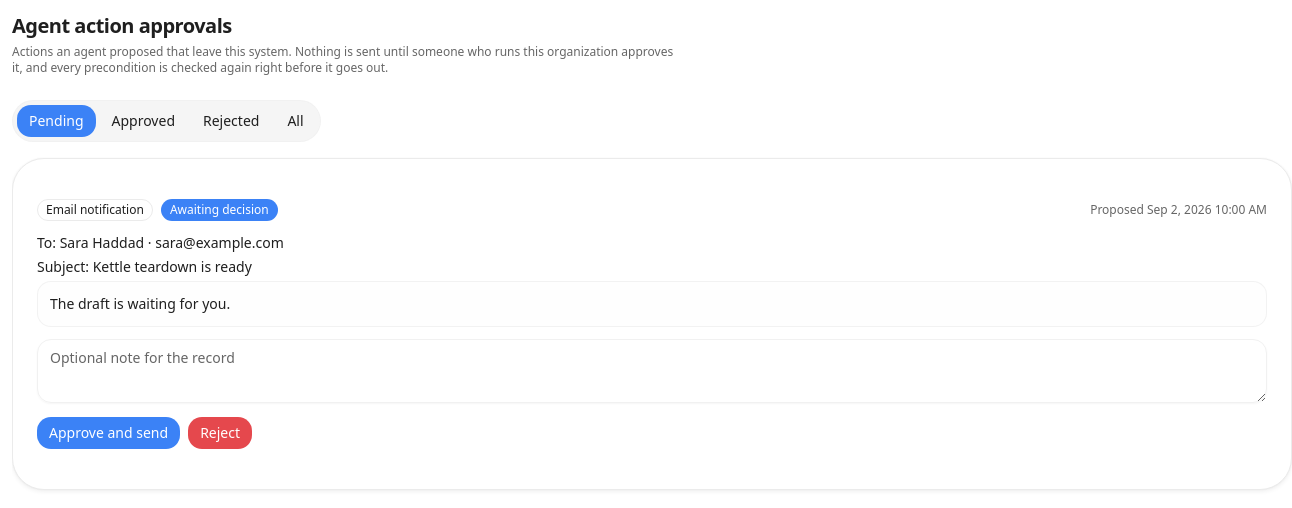
it: organization approvals block › rejects without a note when none was typed
Check: the text "Kettle teardown is ready" is shown, box x1=93 y1=257 x2=252 y2=276
Click the button "Reject": {"x": 220, "y": 433} x1=188 y1=417 x2=252 y2=449
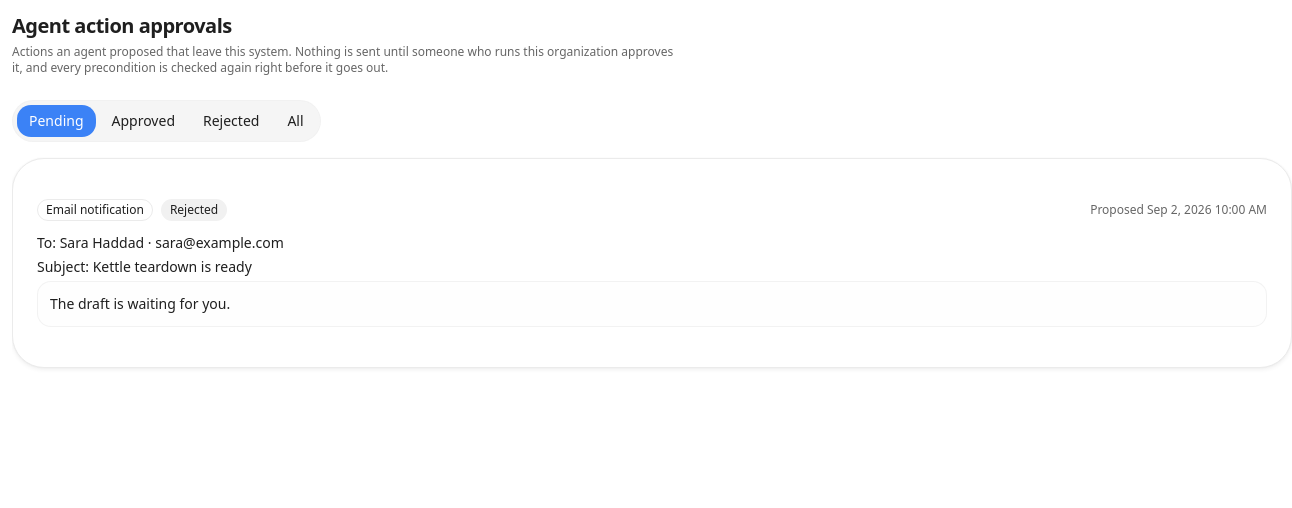
Check: the text "Rejected" is shown, box x1=161 y1=199 x2=227 y2=221
